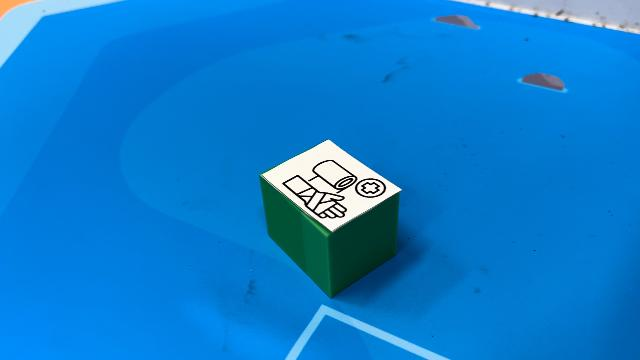bandage: (258, 138, 404, 298)
